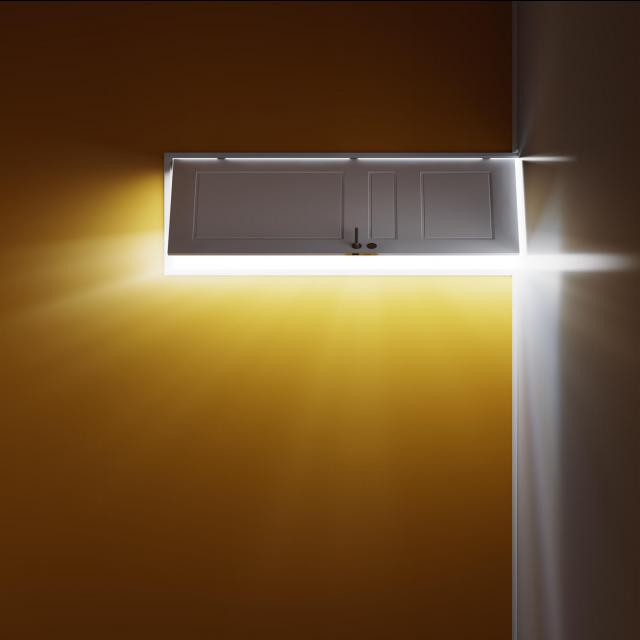open: (168, 155, 524, 275)
